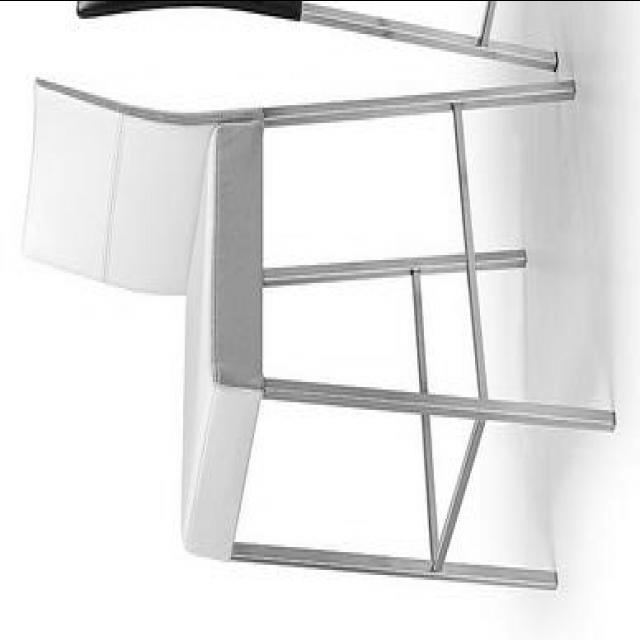chair: (17, 64, 613, 586)
